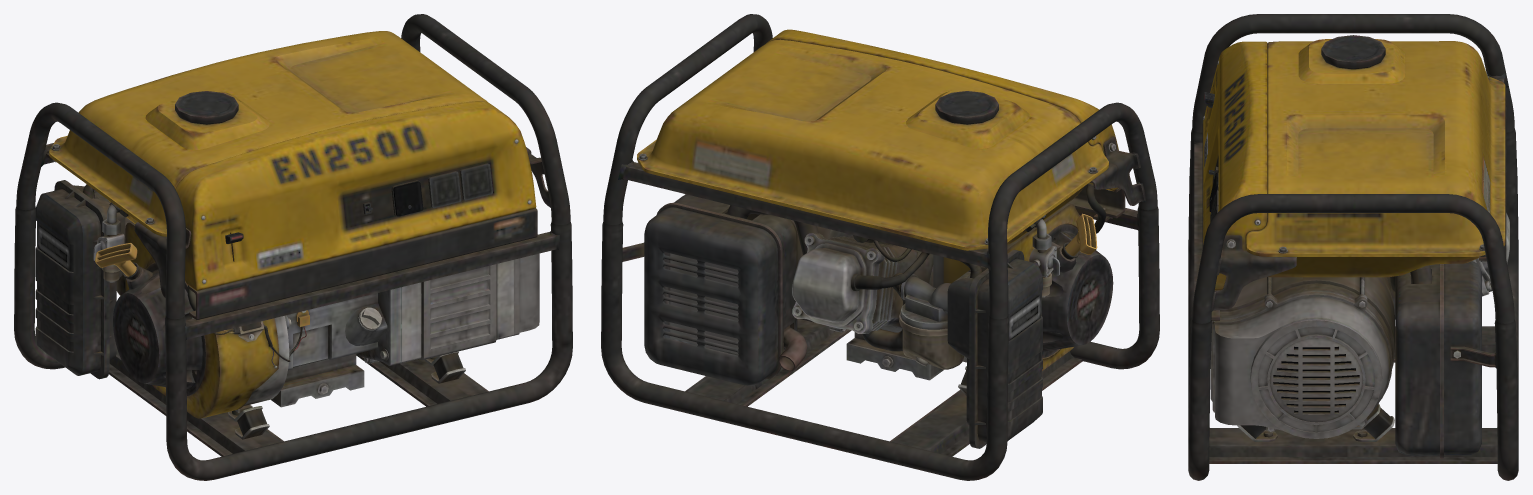
File: detail.fbx
3 renders of one model, left to right at view 1: azimuth 30°, elevation 25°; view 2: azimuth 150°, elevation 25°; view 3: azimuth 270°, elevation 25°, orthographic.
Visible parts, largest first — view 1: portable_generator; view 2: portable_generator; view 3: portable_generator.
Boxes of the visible parts, box(x1,y1,x2,y2) form: portable_generator: box(14, 14, 572, 480); portable_generator: box(601, 14, 1159, 480); portable_generator: box(1188, 14, 1518, 480).
Bounding box in the file's own units: 81.83 × 57.69 × 56.4.
